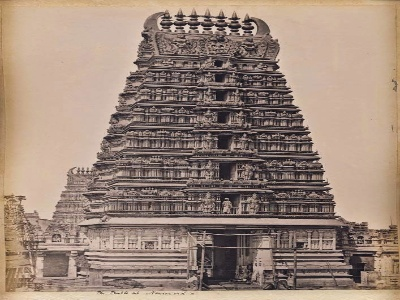gopura: (105, 10, 335, 222)
